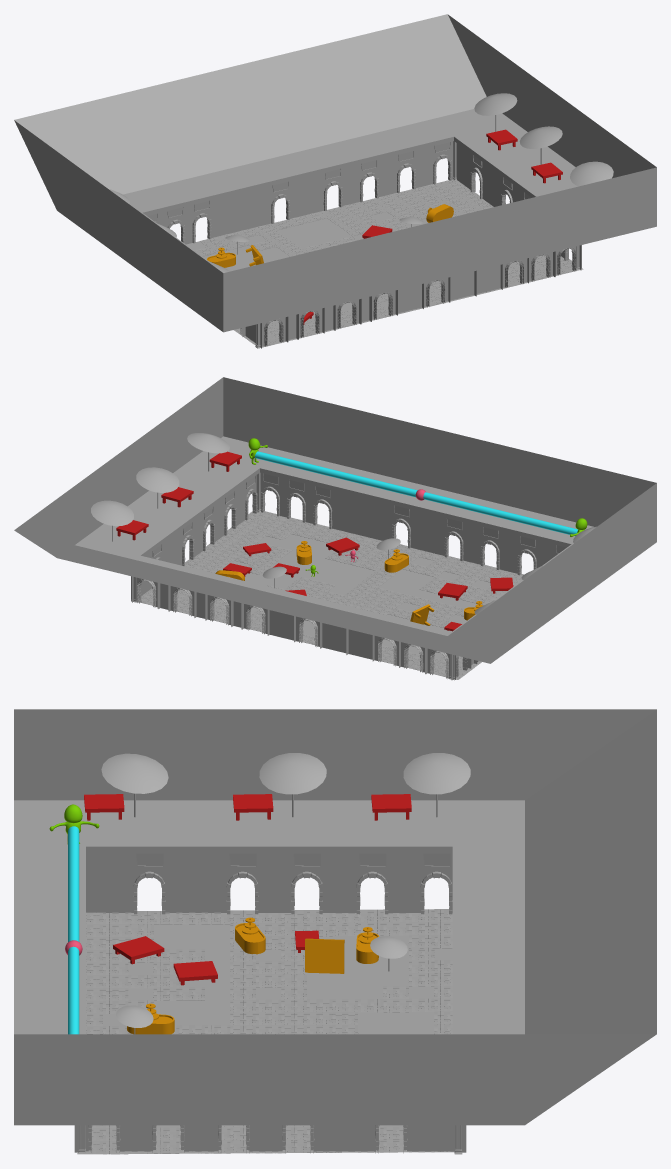
Rendered from Mapa_Prototipo.fbx.
The picture shows the model from 3 angles, top to bottom: view 1: azimuth 30°, elevation 25°; view 2: azimuth 150°, elevation 25°; view 3: azimuth 270°, elevation 25°; orthographic projection. The views are drawn at different scales.
Visible parts, largest first — view 1: Limite_2, Limite_1, Suelo, Paragua_4, Paragua_5, Paragua_6; view 2: Limite_2, Limite_1, Suelo, Poderes, Paragua_5, Paragua_6, Paragua_4; view 3: Limite_2, Suelo, Limite_1, Poderes, Paragua_2, Paragua_1, Paragua_3, Mesa_15, Barra_4, Mesa_7, Mesa_9, Mesa_11 (+5 smaller).
Part boxes in pixels (left/top/right/bottom): Limite_2: left=14, top=14, right=656, bottom=332; Limite_1: left=147, top=141, right=581, bottom=348; Suelo: left=186, top=179, right=583, bottom=348; Paragua_4: left=570, top=161, right=613, bottom=186; Paragua_5: left=519, top=126, right=562, bottom=164; Paragua_6: left=474, top=93, right=517, bottom=131; Limite_2: left=14, top=377, right=656, bottom=663; Limite_1: left=131, top=472, right=566, bottom=680; Suelo: left=140, top=511, right=523, bottom=679; Poderes: left=255, top=451, right=577, bottom=536; Paragua_5: left=136, top=467, right=179, bottom=508; Paragua_6: left=91, top=500, right=133, bottom=541; Paragua_4: left=187, top=433, right=229, bottom=471; Limite_2: left=14, top=709, right=656, bottom=1125; Suelo: left=77, top=909, right=454, bottom=1154; Limite_1: left=74, top=853, right=466, bottom=1154; Poderes: left=68, top=826, right=79, bottom=1034; Paragua_2: left=259, top=753, right=326, bottom=817; Paragua_1: left=403, top=753, right=470, bottom=817; Paragua_3: left=101, top=753, right=168, bottom=817; Mesa_15: left=305, top=938, right=344, bottom=973; Barra_4: left=235, top=917, right=265, bottom=954; Mesa_7: left=113, top=936, right=164, bottom=964; Mesa_9: left=371, top=794, right=411, bottom=820; Mesa_11: left=84, top=794, right=124, bottom=820.
Size of the model in its own units: 136 by 32.02 by 114.
